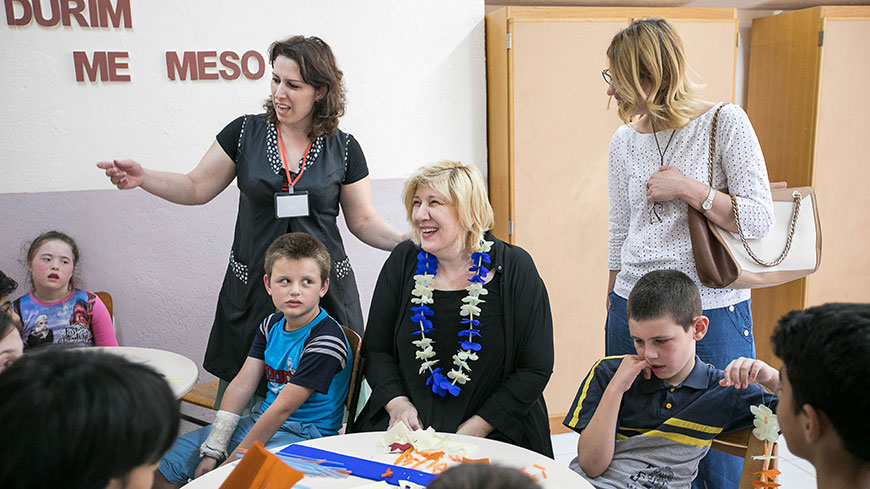person: (575, 25, 811, 305), (361, 151, 550, 440), (147, 40, 395, 234), (573, 275, 761, 476), (238, 222, 355, 438), (762, 284, 867, 476), (21, 219, 116, 348)
